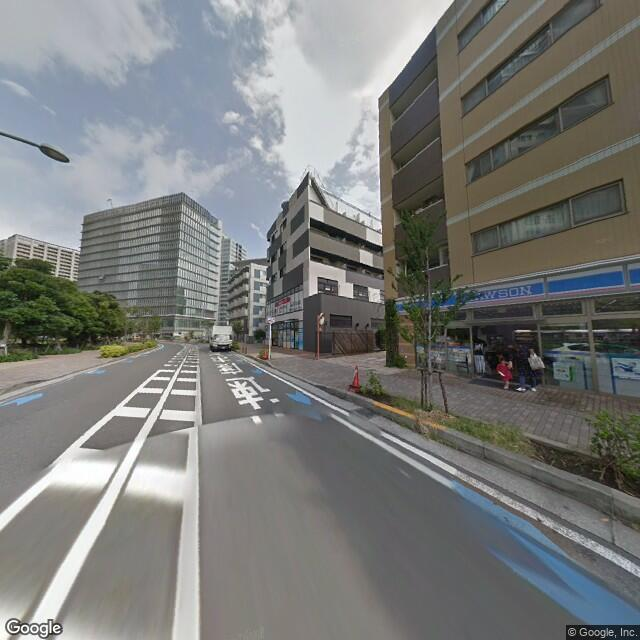lawson: (446, 252, 637, 313)
